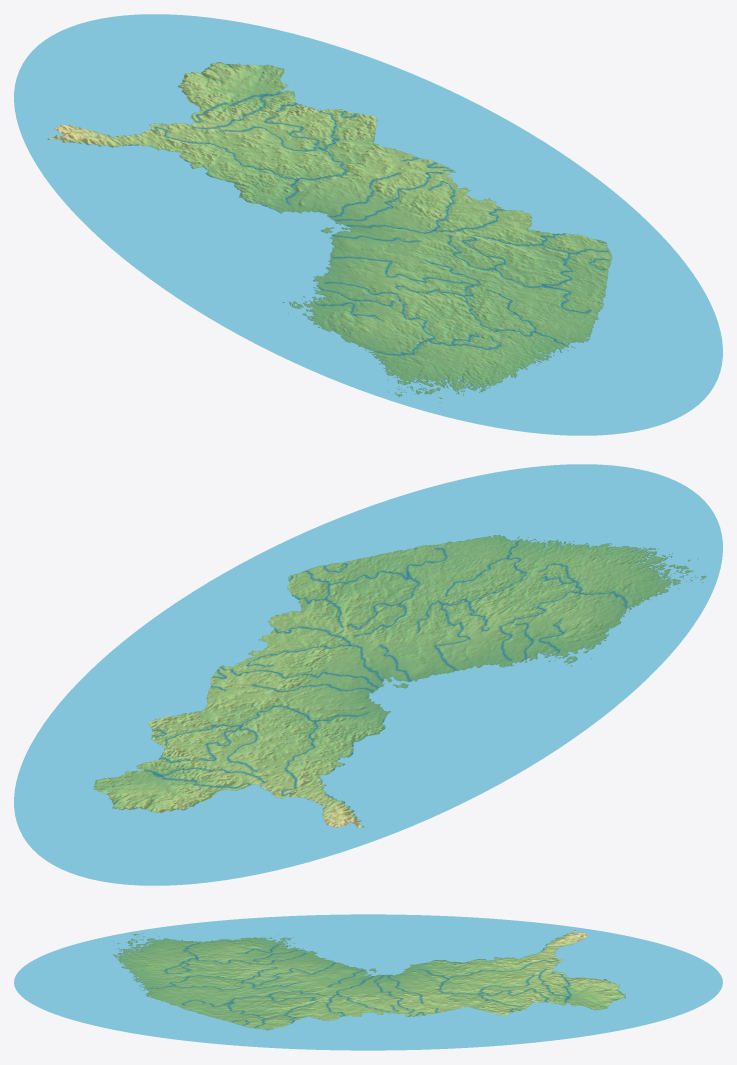
The model's file is FIN-terrain.glb.
3 views of the same model, one above another, from view 1: azimuth 30°, elevation 25°; view 2: azimuth 150°, elevation 25°; view 3: azimuth 270°, elevation 25° (orthographic). The views are drawn at different scales.
Parts seen in each view (by area): view 1: Relevo com hidrografia; view 2: Relevo com hidrografia; view 3: Relevo com hidrografia.
Part boxes in pixels (bbox=[...]): Relevo com hidrografia: bbox=[14, 14, 722, 435]; Relevo com hidrografia: bbox=[14, 464, 722, 885]; Relevo com hidrografia: bbox=[14, 914, 722, 1050].
Size of the model in its own units: 1.01 by 0.019 by 2.22.
Materials: 2 (1 with a texture image).
